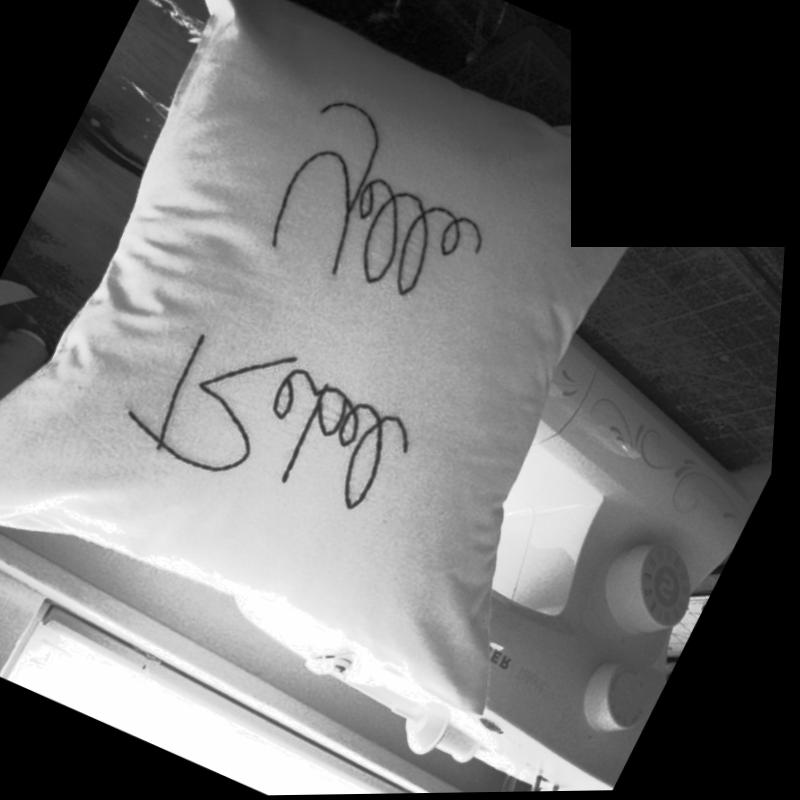pillow: (0, 0, 763, 756)
